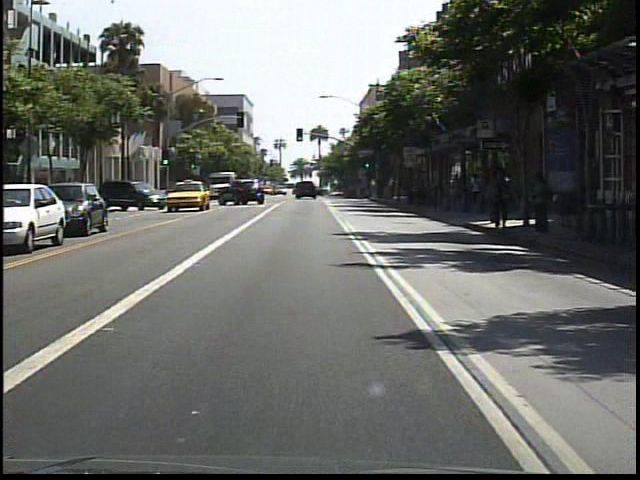person: (486, 163, 515, 236), (526, 169, 552, 240), (465, 168, 482, 210)
